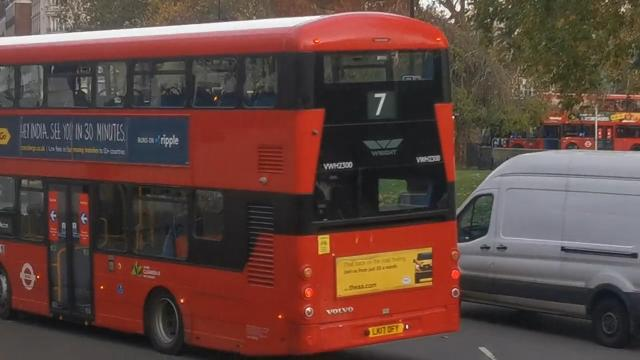bus: (0, 10, 449, 355)
van: (453, 149, 640, 347)
